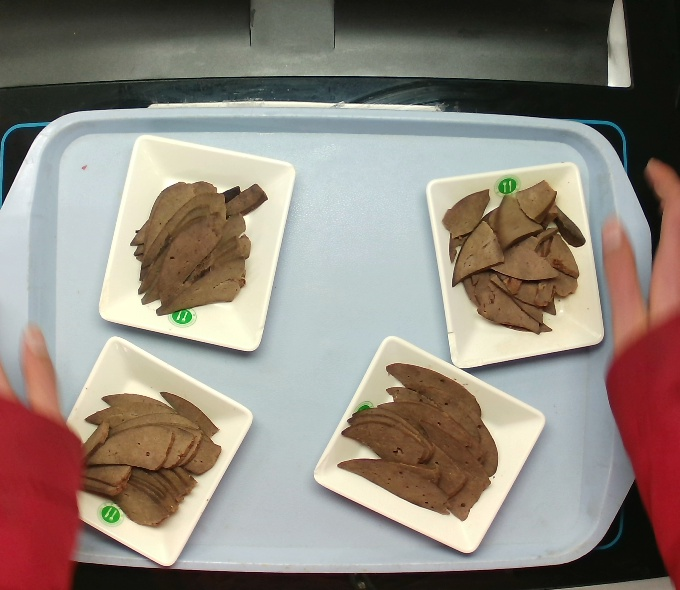wcq-ZhuGan: (330, 358, 503, 529), (436, 176, 591, 337), (67, 384, 227, 533), (127, 173, 273, 321)
